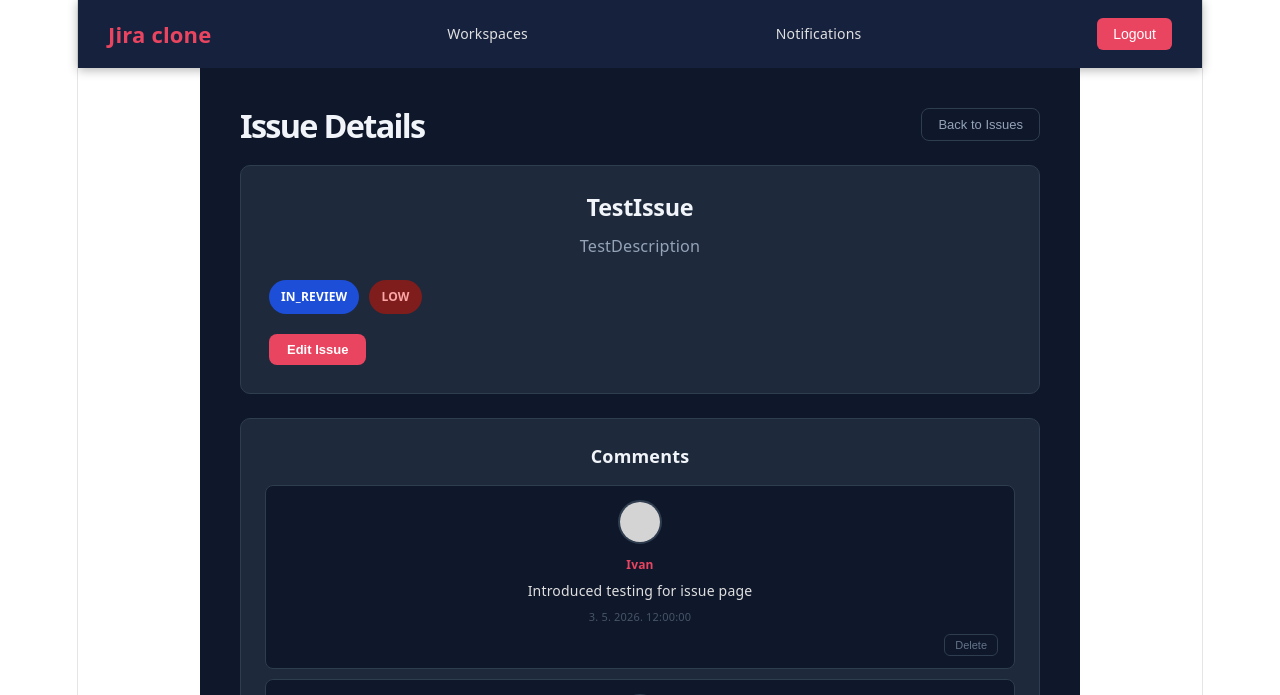
Test: IssuePage › should edit form appear
This screenshot has width=1280, height=695.
Expected: the text "TestDescription" is shown, [580,235,700,257]
Click the button "Edit Issue".
click(318, 349)  # box [269,334,366,365]
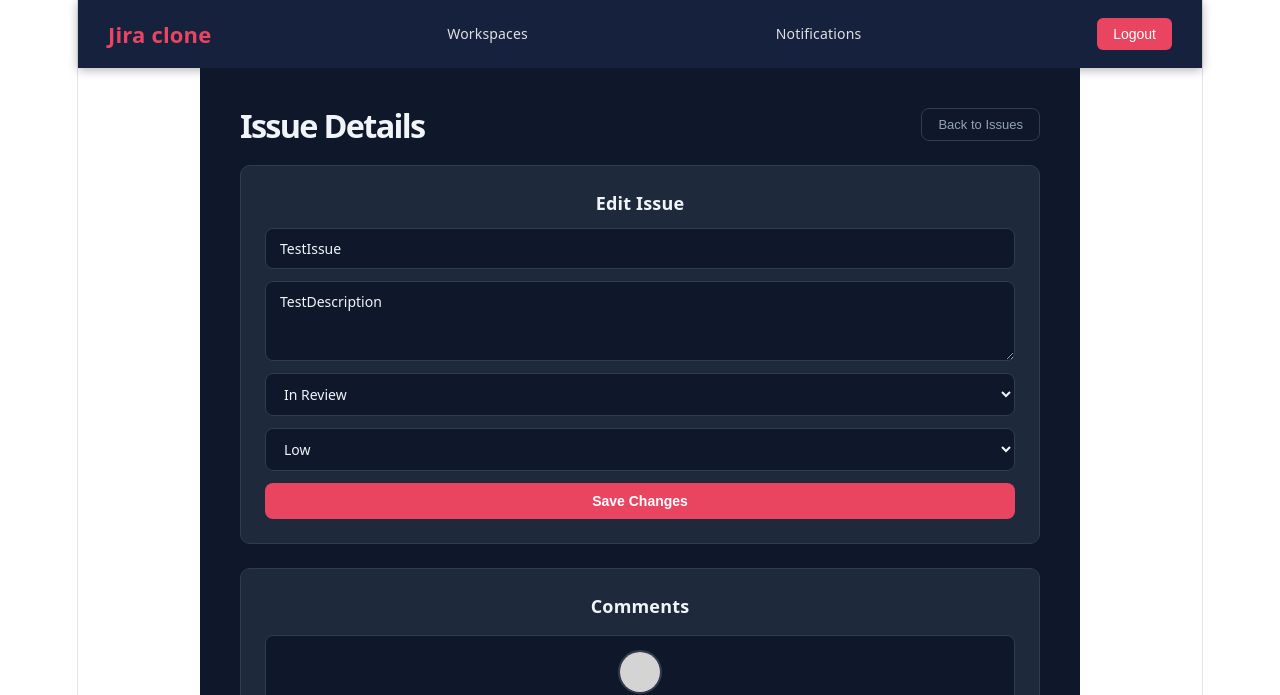
Now the button "Save Changes" is shown, box [265,483,1015,519]
